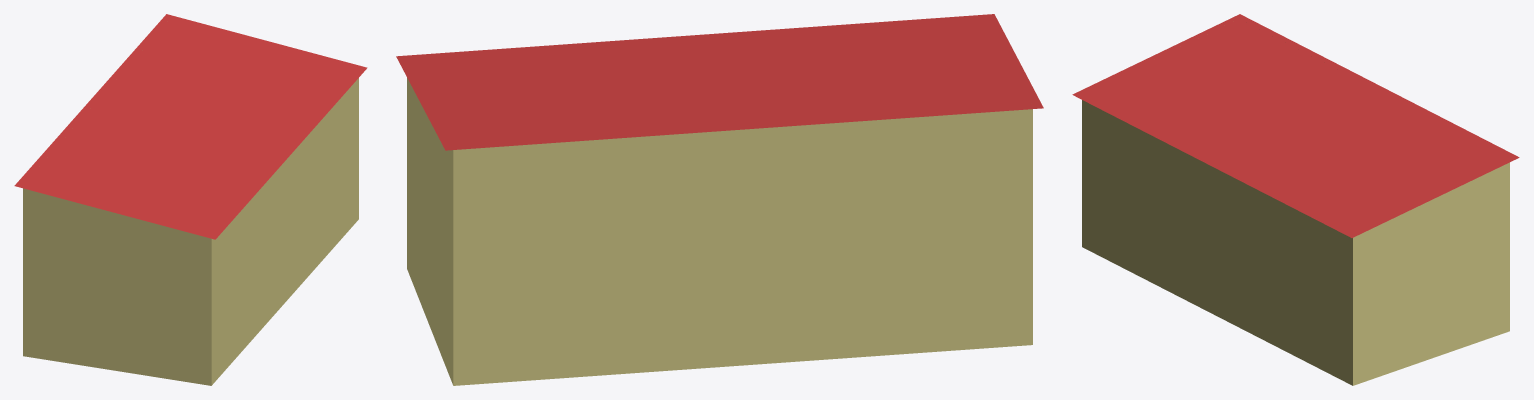
3 renders of one model, left to right at view 1: azimuth 30°, elevation 25°; view 2: azimuth 150°, elevation 25°; view 3: azimuth 270°, elevation 25°, orthographic. The views are drawn at different scales.
Size of the model in its own units: 17.23 by 16.14 by 6.92.
